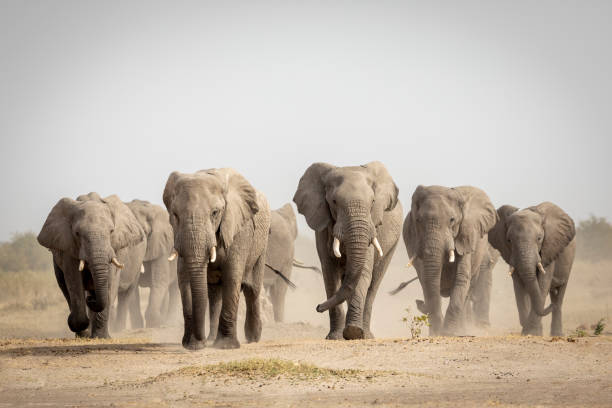africanelephant: (321, 170, 384, 277), (164, 171, 226, 277), (402, 191, 463, 281), (71, 200, 128, 282), (501, 205, 550, 284)
